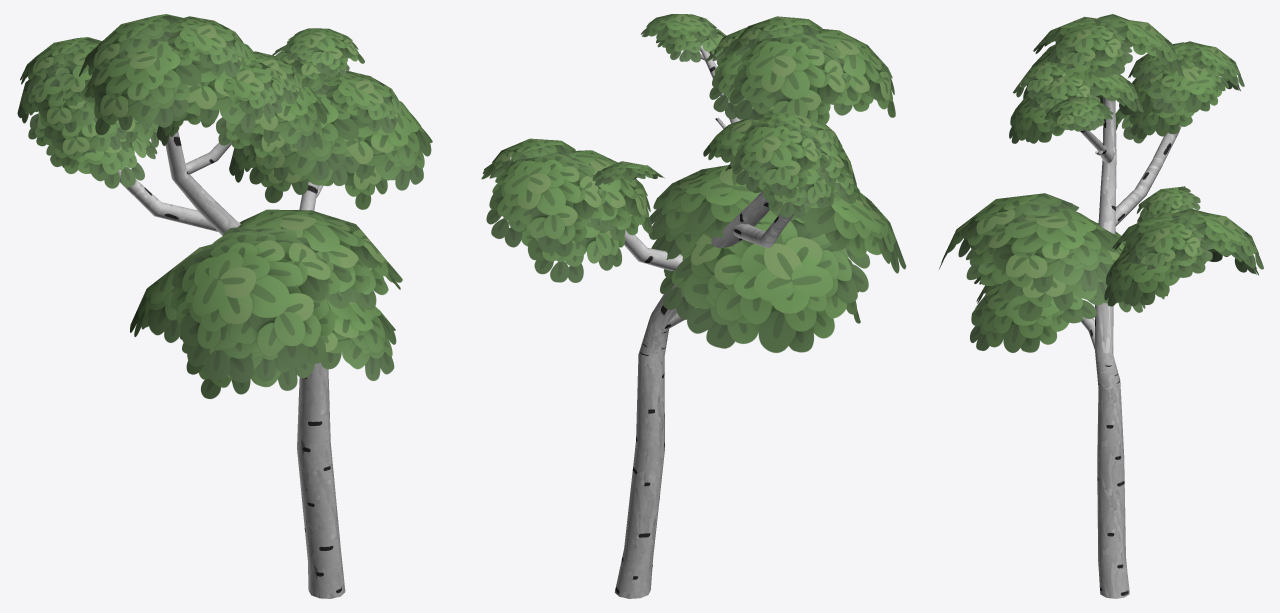
File: Birch_6.glb
3 views of the same model, side by side, from view 1: azimuth 30°, elevation 25°; view 2: azimuth 150°, elevation 25°; view 3: azimuth 270°, elevation 25° (orthographic). The views are drawn at different scales.
Parts seen in each view (by area): view 1: Birch_6; view 2: Birch_6; view 3: Birch_6.
Boxes of the visible parts, x1=… form: Birch_6: x1=17, y1=14, x2=432, y2=598; Birch_6: x1=481, y1=14, x2=906, y2=598; Birch_6: x1=939, y1=14, x2=1263, y2=598.
Bounding box in the file's own units: 6.53 × 9.61 × 5.67.
2 materials, 2 textured.
